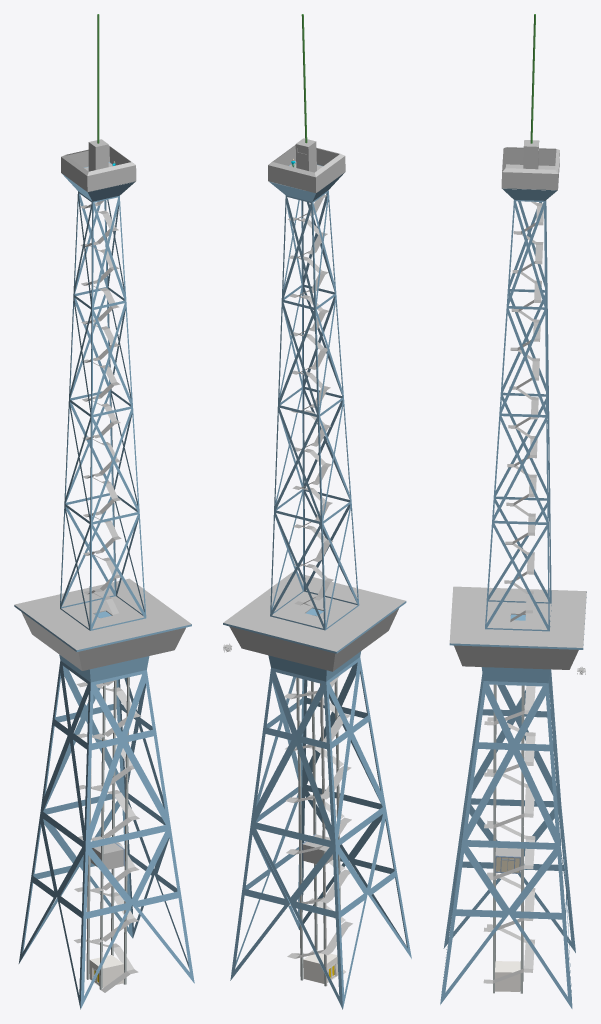
Rendered from Funkturm.gltf.
3 renders of one model, left to right at view 1: azimuth 30°, elevation 25°; view 2: azimuth 150°, elevation 25°; view 3: azimuth 270°, elevation 25°, orthographic.
Parts seen in each view (by area): view 1: 3DGeom~9, 3DGeom~12, 3DGeom~1, 3DGeom~14, 3DGeom~7, 3DGeom~277 (×3), 3DGeom~279 (×3), 3DGeom~4, 3DGeom~6, 3DGeom~11, 3DGeom~15, 3DGeom~2 (+2 smaller); view 2: 3DGeom~9, 3DGeom~12, 3DGeom~1, 3DGeom~14, 3DGeom~7, 3DGeom~4, 3DGeom~279 (×2), 3DGeom~6, 3DGeom~11, 3DGeom~15, 3DGeom~2, 3DGeom~3 (+1 smaller); view 3: 3DGeom~9, 3DGeom~12, 3DGeom~1, 3DGeom~277 (×6), 3DGeom~14, 3DGeom~7, 3DGeom~4, 3DGeom~6, 3DGeom~11, 3DGeom~15, 3DGeom~2, 3DGeom~3.
Boxes of the visible parts, <box> form: 3DGeom~9: <box>18,660,194,1009</box>; 3DGeom~12: <box>60,191,146,630</box>; 3DGeom~1: <box>14,578,191,650</box>; 3DGeom~14: <box>61,145,136,192</box>; 3DGeom~7: <box>23,613,182,663</box>; 3DGeom~277 (×3): <box>74,785,139,992</box>; 3DGeom~279 (×3): <box>87,770,128,989</box>; 3DGeom~4: <box>21,612,185,670</box>; 3DGeom~6: <box>59,654,149,682</box>; 3DGeom~11: <box>89,955,123,987</box>; 3DGeom~15: <box>84,139,135,185</box>; 3DGeom~2: <box>62,162,135,201</box>; 3DGeom~9: <box>230,657,411,1009</box>; 3DGeom~12: <box>270,190,359,630</box>; 3DGeom~1: <box>223,572,405,651</box>; 3DGeom~14: <box>268,145,345,193</box>; 3DGeom~7: <box>233,610,396,664</box>; 3DGeom~4: <box>229,608,398,671</box>; 3DGeom~279 (×2): <box>297,711,339,830</box>; 3DGeom~6: <box>268,651,361,681</box>; 3DGeom~11: <box>303,950,338,983</box>; 3DGeom~15: <box>269,138,322,185</box>; 3DGeom~2: <box>269,161,344,201</box>; 3DGeom~3: <box>223,601,406,653</box>; 3DGeom~9: <box>440,669,575,1008</box>; 3DGeom~12: <box>485,199,551,631</box>; 3DGeom~1: <box>449,586,586,647</box>; 3DGeom~277 (×6): <box>483,686,535,983</box>; 3DGeom~14: <box>501,147,559,190</box>; 3DGeom~7: <box>458,646,574,663</box>; 3DGeom~4: <box>454,645,578,669</box>; 3DGeom~6: <box>481,667,550,683</box>; 3DGeom~11: <box>495,961,520,991</box>; 3DGeom~15: <box>502,140,555,190</box>; 3DGeom~2: <box>502,188,557,200</box>; 3DGeom~3: <box>449,592,586,649</box>.
Size of the model in its own units: 19.33 by 150 by 20.52.
